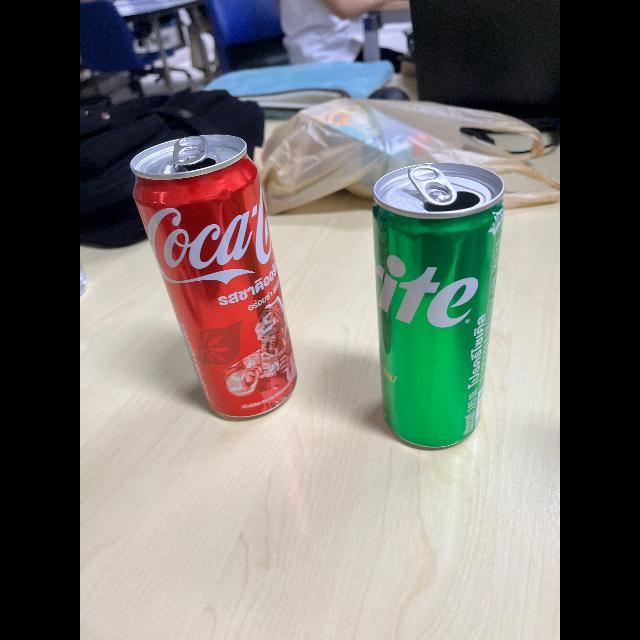can: (126, 132, 298, 428), (362, 162, 511, 444)
